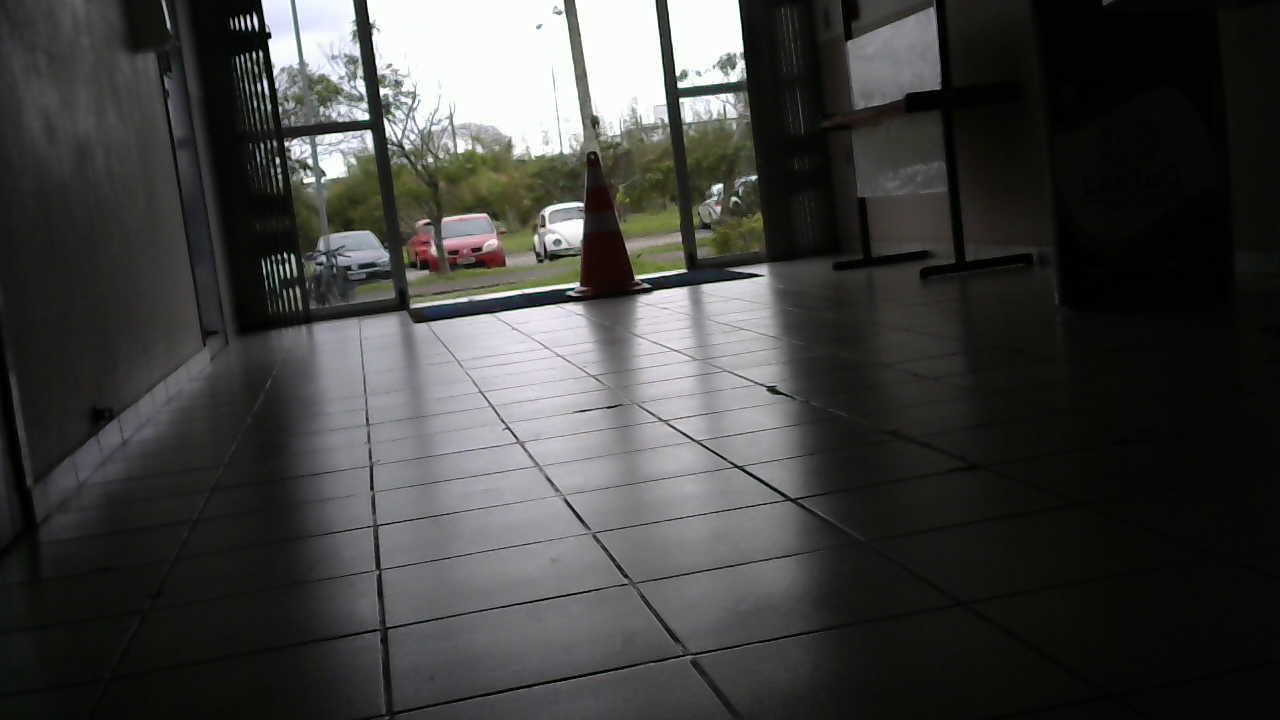cone: (570, 150, 653, 295)
